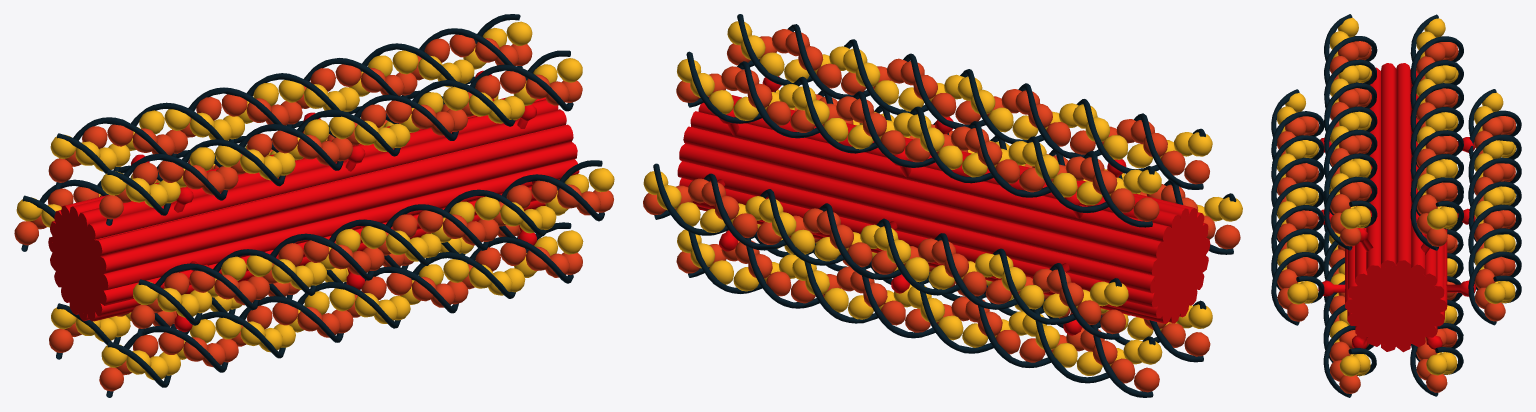
The model's file is sarcomere.glb.
3 views of the same model, side by side, from view 1: azimuth 30°, elevation 25°; view 2: azimuth 150°, elevation 25°; view 3: azimuth 270°, elevation 25° (orthographic). The views are drawn at different scales.
Visible parts, largest first — view 1: Object_10, Object_8, Object_6, Object_36; view 2: Object_10, Object_8, Object_6, Object_36; view 3: Object_36, Object_10, Object_8, Object_6.
Boxes of the visible parts, box(x1,y1,x2,y2) form: Object_10: box(48, 70, 579, 332); Object_8: box(14, 34, 613, 391); Object_6: box(16, 21, 614, 380); Object_36: box(21, 14, 604, 397); Object_10: box(677, 76, 1210, 335); Object_8: box(643, 29, 1240, 392); Object_6: box(643, 21, 1242, 375); Object_36: box(653, 14, 1236, 397); Object_36: box(1271, 14, 1521, 397); Object_10: box(1318, 63, 1475, 352); Object_8: box(1277, 41, 1515, 393); Object_6: box(1277, 17, 1516, 376).
Size of the model in its own units: 0.9654 by 0.4498 by 0.5083.
